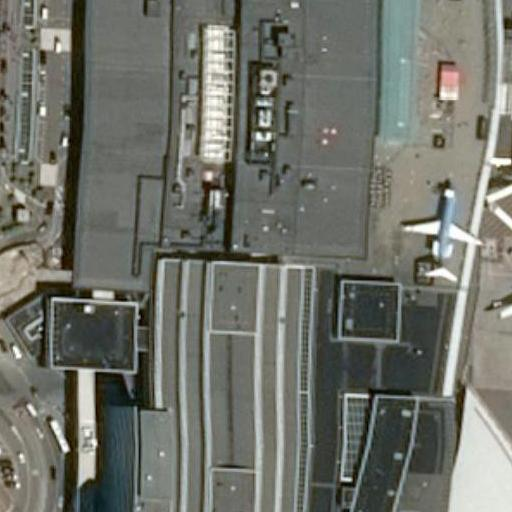Aircraft: (399, 184, 484, 284), (497, 220, 512, 373)
